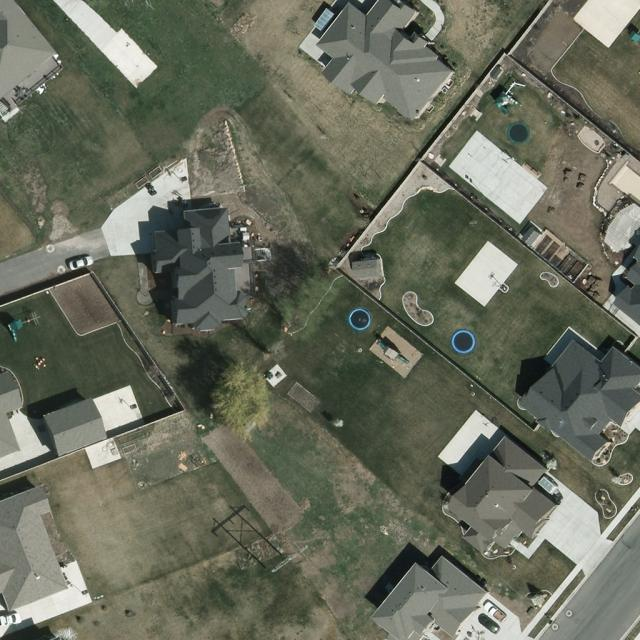vehicle: (483, 601, 508, 624), (478, 615, 501, 636), (67, 256, 95, 270)
